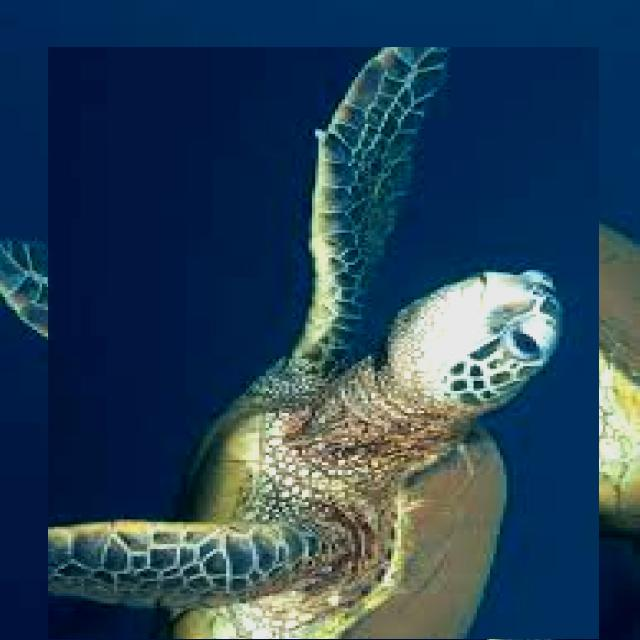Sea turtle: (27, 67, 619, 640)
